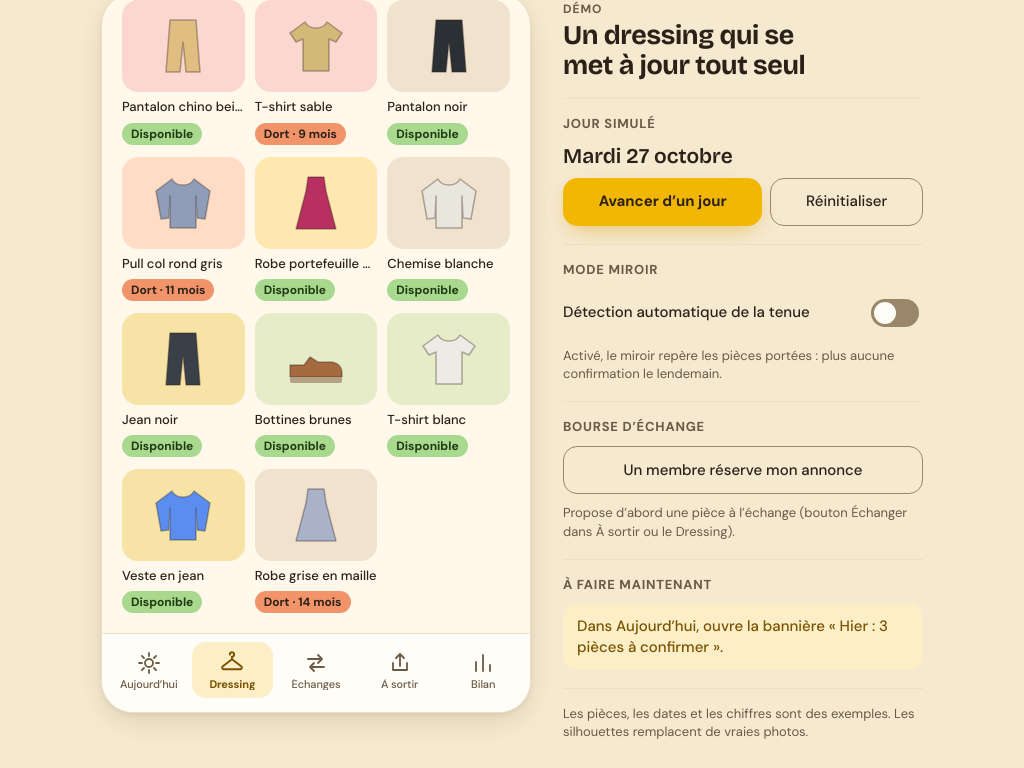
Test: Dressing › met une pièce au lavage depuis sa feuille, puis rend le focus à la pièce
(page scrolled)
What coordinates should you click on to do the following:
click the button with aria-label "T-shirt blanc, disponible"
I would click on:
 (449, 385)
Its box is [387,313,510,457].
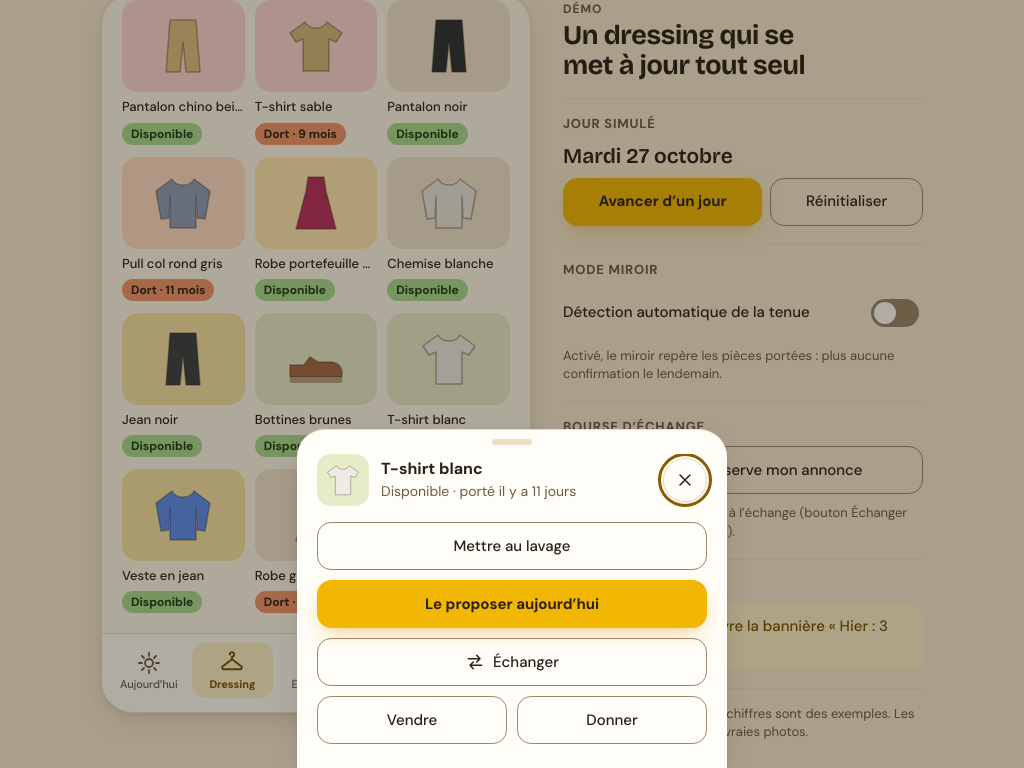
Result: the text "Disponible · porté il y a 11 jours" is shown at [381,482,576,500]
Result: the button "Échanger" is enabled at [317,638,707,686]
Result: the button "Le proposer aujourd’hui" is shown at [317,580,707,628]
What coordinates should you click on to do the following:
click the button "Mettre au lavage"
I would click on:
 (512, 546)
Its box is [317,522,707,570].
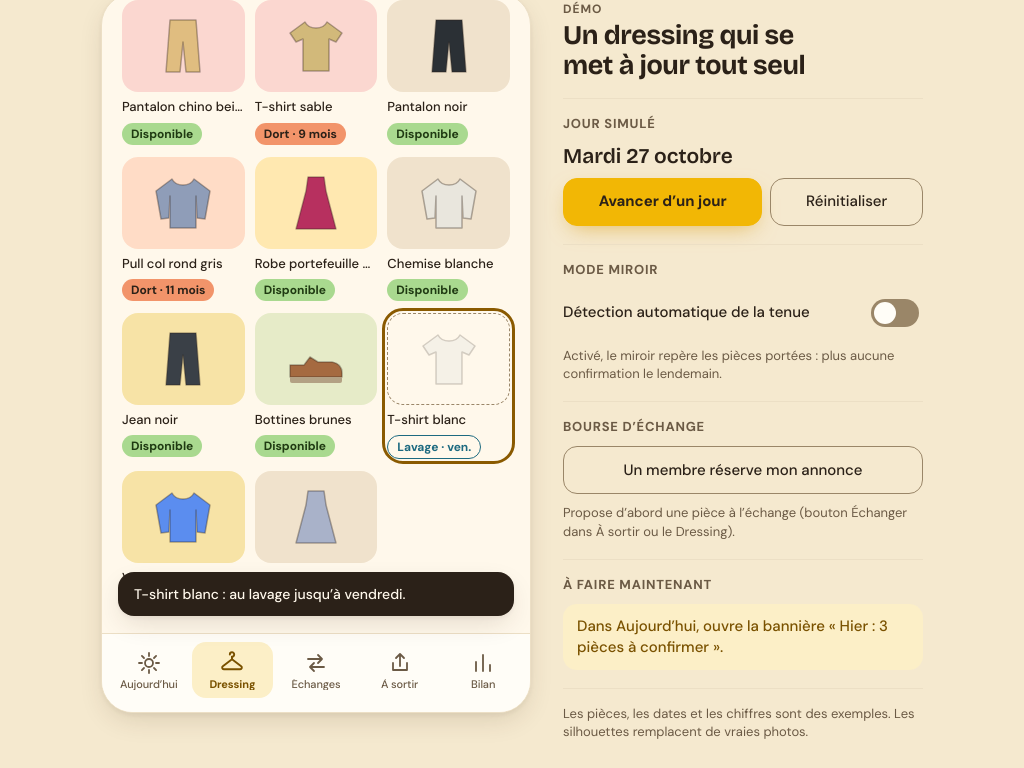
Result: the text "Lavage · ven." is shown at [387,435,481,459]
Result: the dialog is gone
